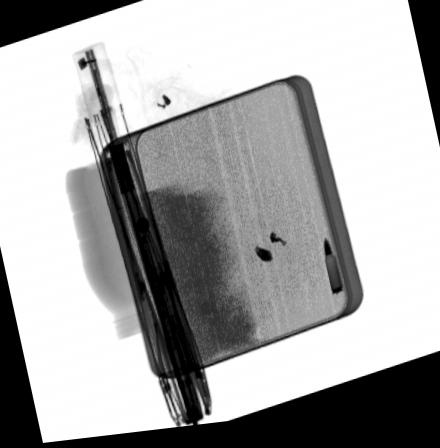Bullet: (322, 241, 344, 302)
